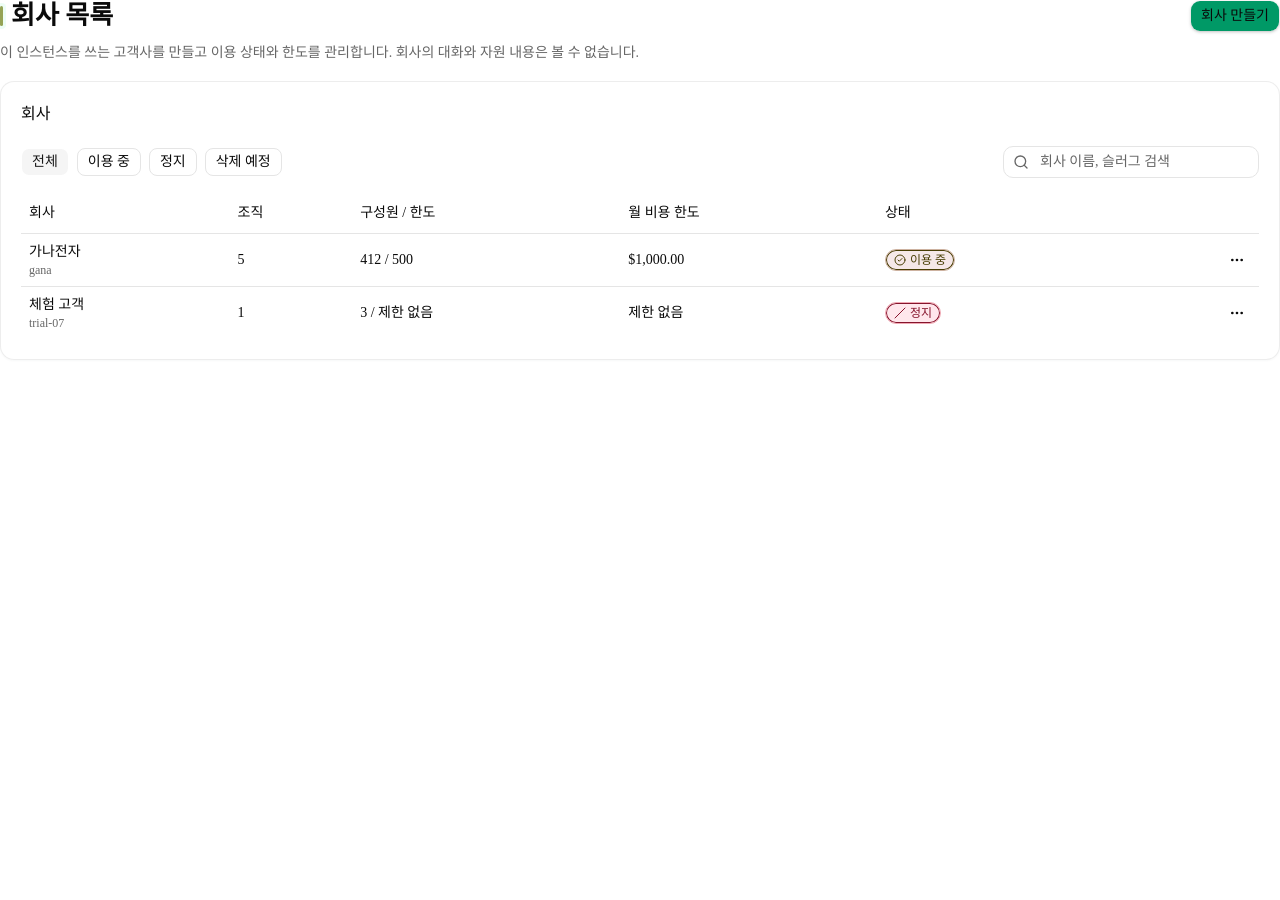
Test case: TenantListContent (S03) › suspends only after the slug is typed, showing members and active runs
The image size is (1280, 900).
Click the button named "가나전자 메뉴" at (1237, 260), box [1223,246,1251,274]
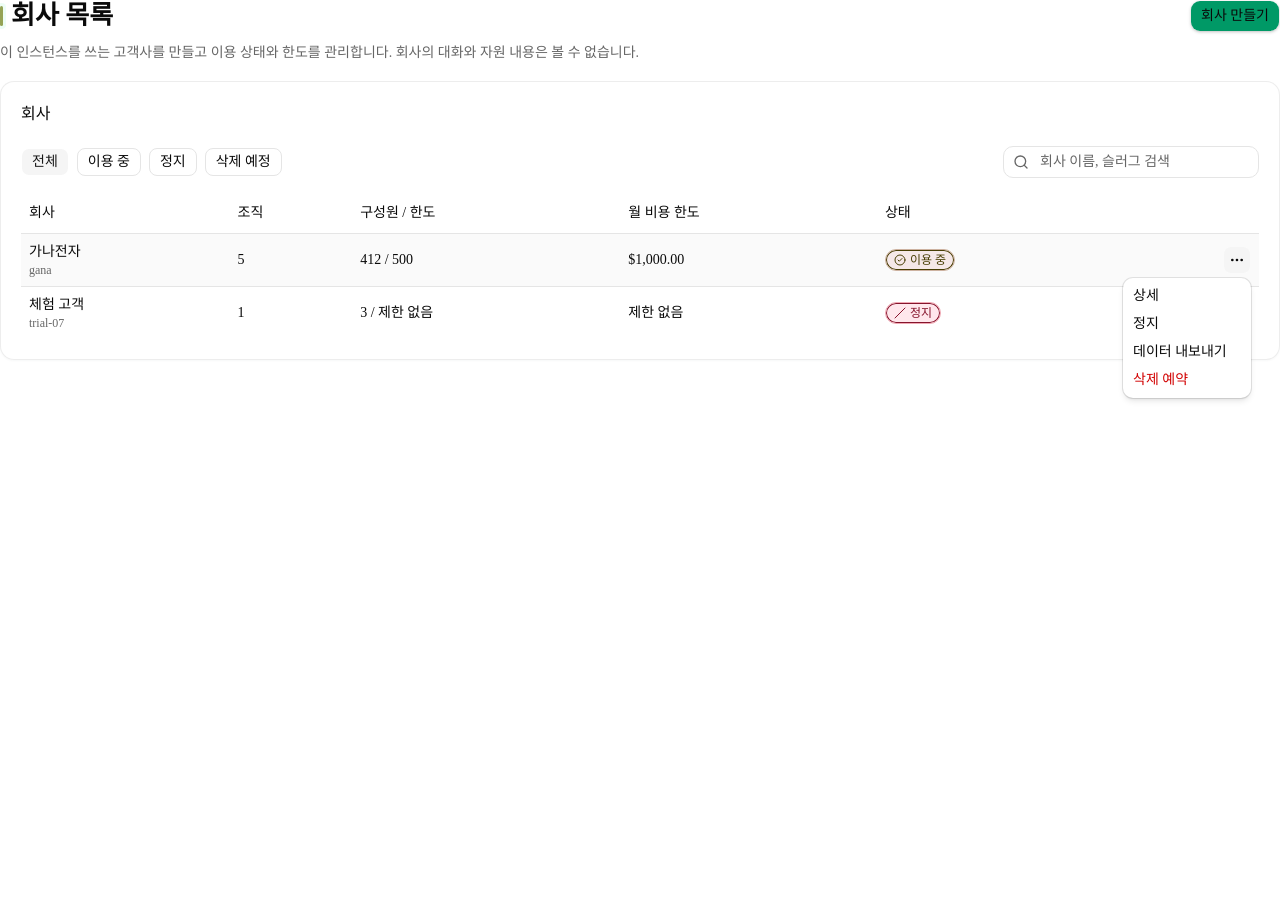
Click the menu item "정지" at (1146, 324), box [1133,316,1159,331]
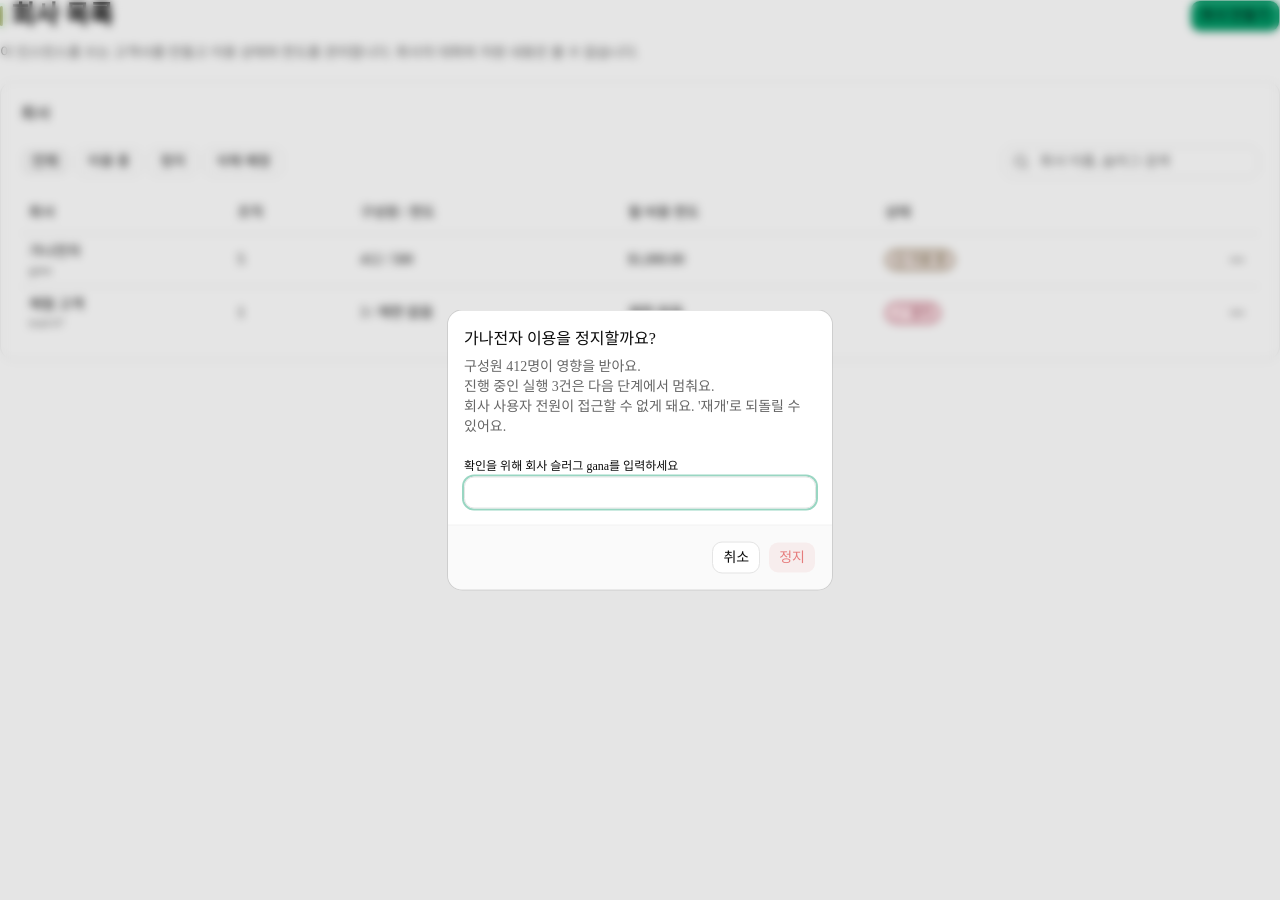
Check: the text "진행 중인 실행 3건" is shown, box [464,358,800,434]
Check: the button "정지" is disabled, box [768,542,816,574]
Type "gan" into the field labelled "확인을 위해 회사 슬러그 gana를 입력하세요" at (640, 492), box [464,476,816,508]
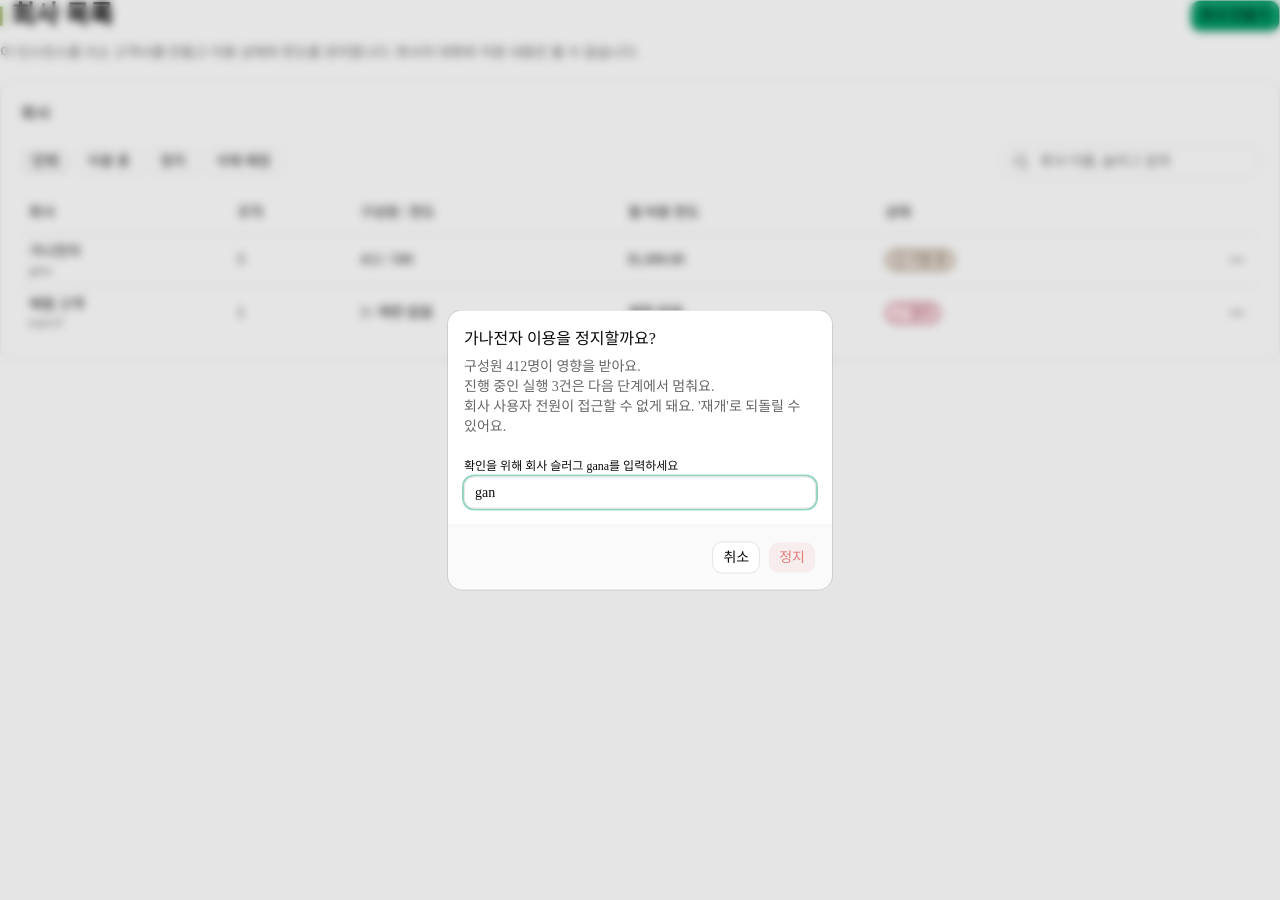
Check: the button "정지" is disabled, box [768,542,816,574]
Type "a" into the field labelled "확인을 위해 회사 슬러그 gana를 입력하세요" at (640, 492), box [464,476,816,508]
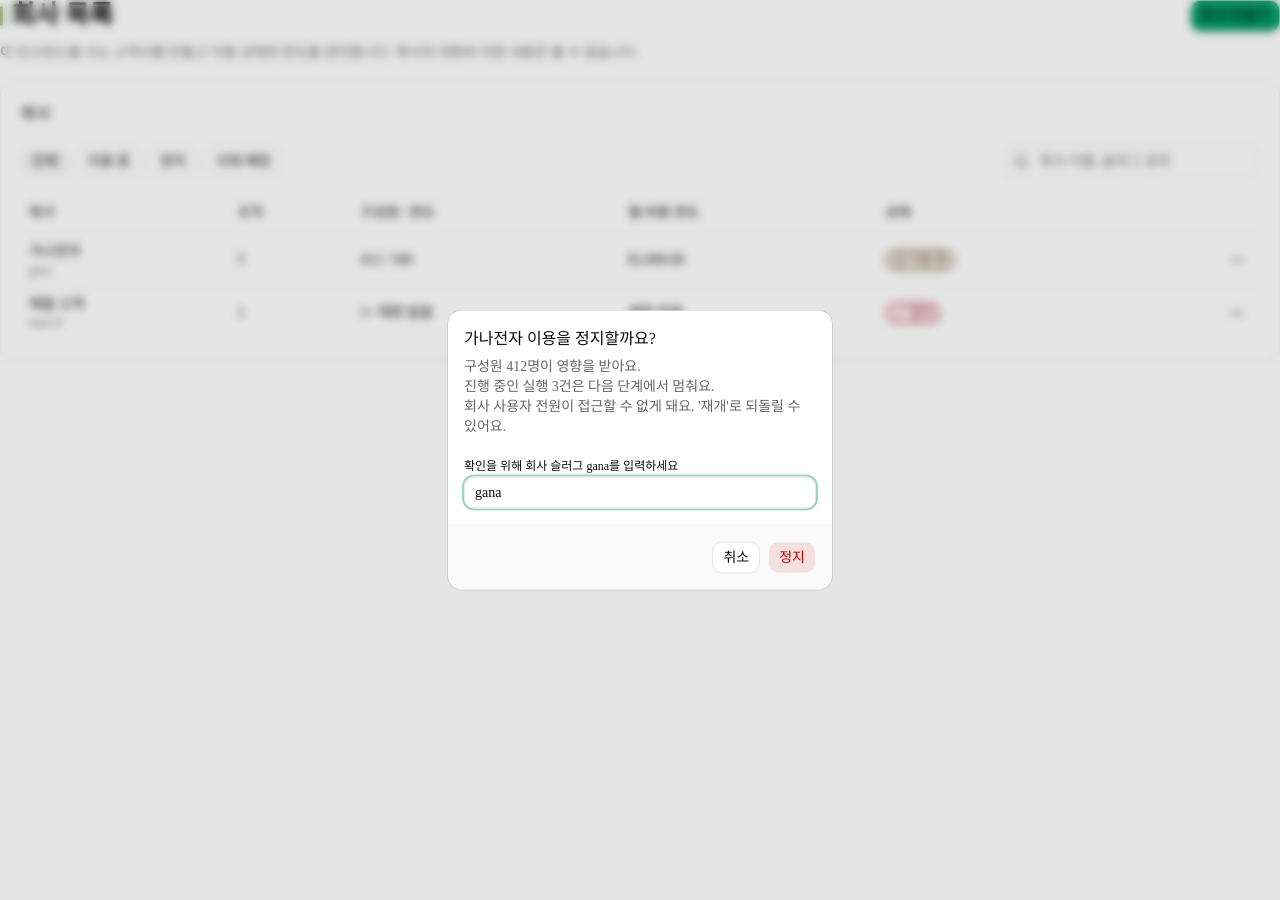
Check: the button "정지" is enabled
Click the button "정지" at (792, 558), box [768,542,816,574]
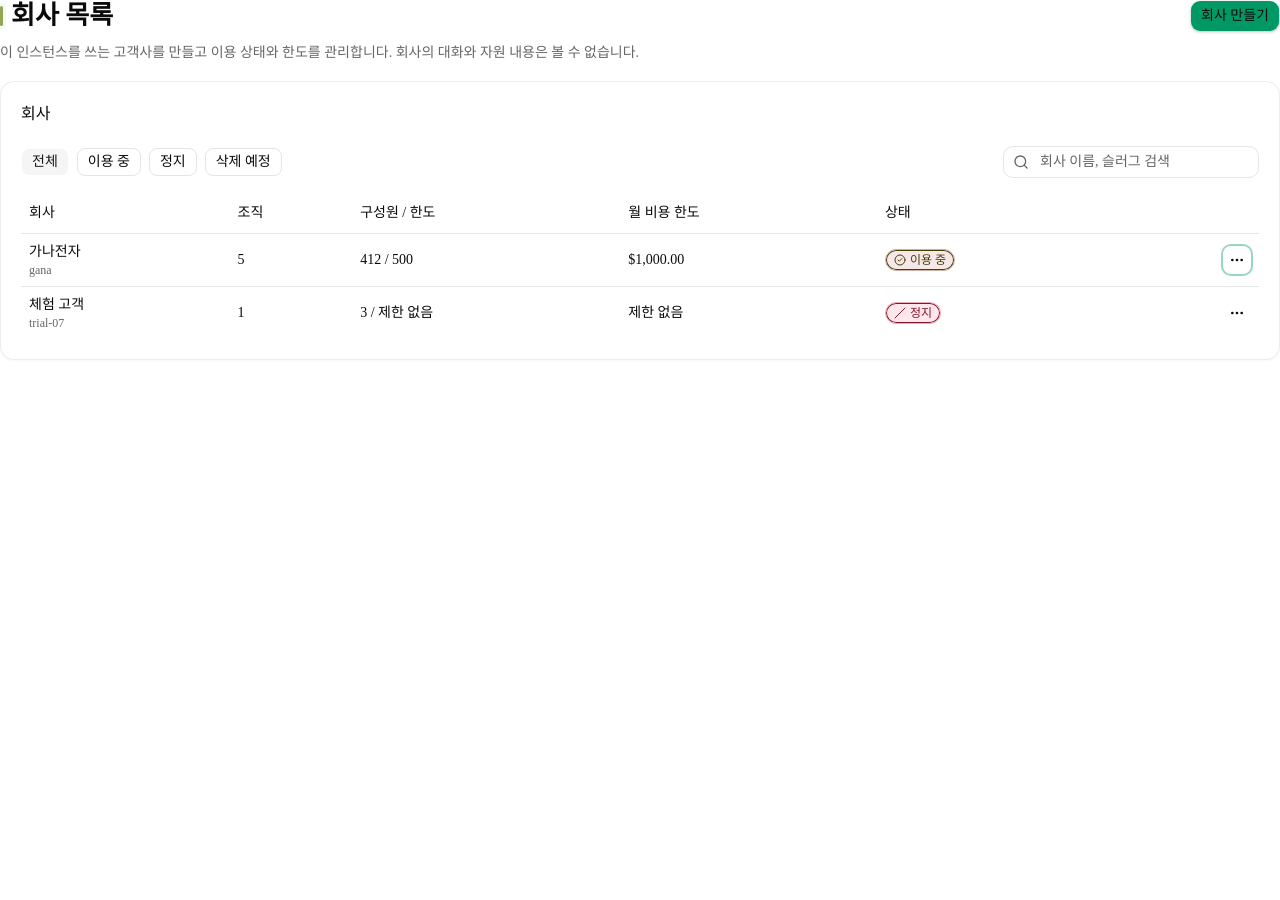
Check: the dialog is gone
